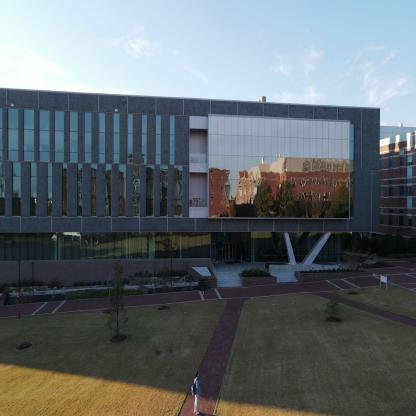EB-1: (386, 118, 415, 276)
Fitts- Woolard: (2, 67, 382, 322)
